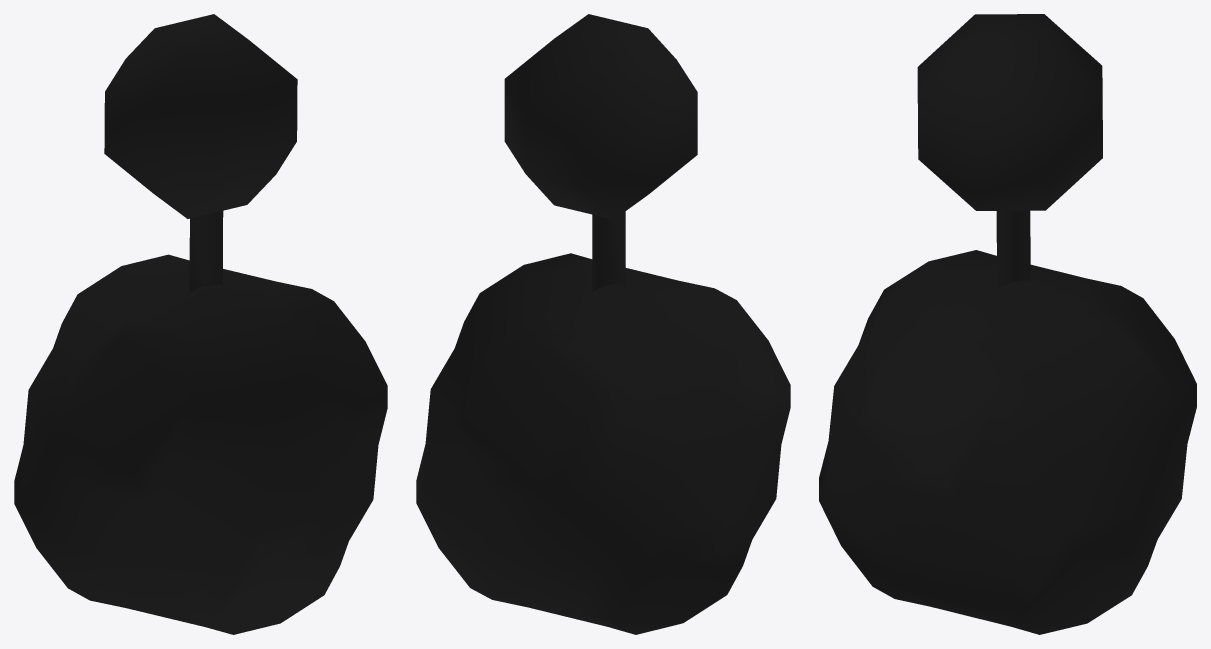
The model's file is ps2_save-icons_kerorobattleroyale.glb.
3 views of the same model, side by side, from view 1: azimuth 30°, elevation 25°; view 2: azimuth 150°, elevation 25°; view 3: azimuth 270°, elevation 25° (orthographic).
Visible parts, largest first — view 1: keroball.ico; view 2: keroball.ico; view 3: keroball.ico.
Boxes of the visible parts, x1=… form: keroball.ico: x1=14, y1=14, x2=387, y2=634; keroball.ico: x1=416, y1=14, x2=790, y2=634; keroball.ico: x1=819, y1=14, x2=1196, y2=634.
Bounding box in the file's own units: 2.61 × 4.72 × 2.78.
1 material, 1 textured.
